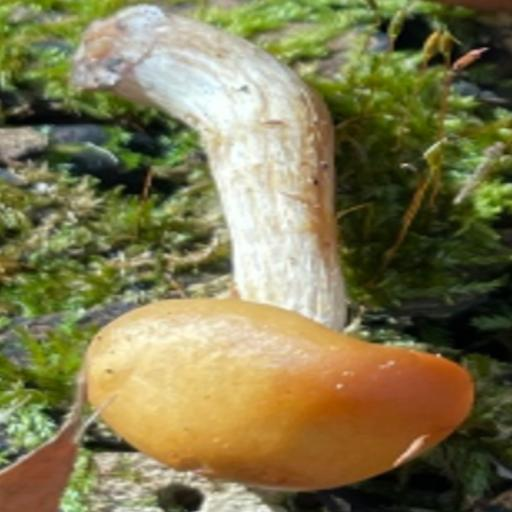mushroom: (70, 183, 480, 495)
